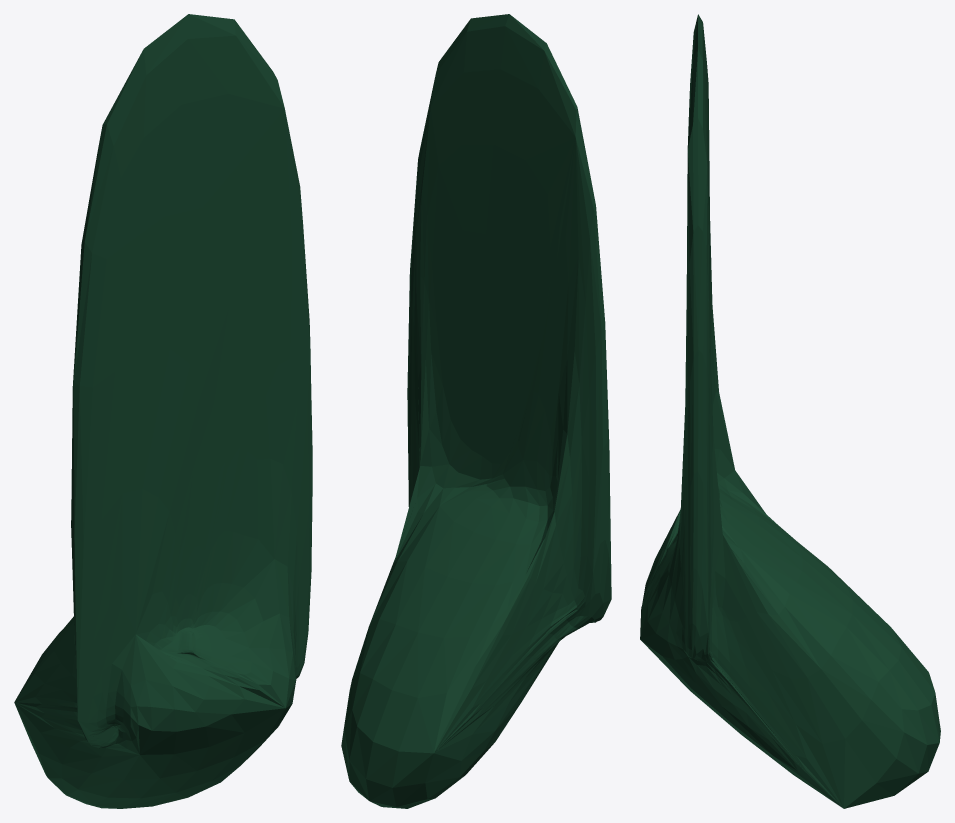
The picture shows the model from 3 angles, left to right: view 1: azimuth 30°, elevation 25°; view 2: azimuth 150°, elevation 25°; view 3: azimuth 270°, elevation 25°; orthographic projection. The views are drawn at different scales.
Parts seen in each view (by area): view 1: 332_Cube.1360; view 2: 332_Cube.1360; view 3: 332_Cube.1360.
Part boxes in pixels (x1=…): 332_Cube.1360: x1=14, y1=14, x2=312, y2=808; 332_Cube.1360: x1=341, y1=14, x2=611, y2=808; 332_Cube.1360: x1=640, y1=14, x2=940, y2=808.
Bounding box in the file's own units: 4.02 × 13.98 × 5.02.
